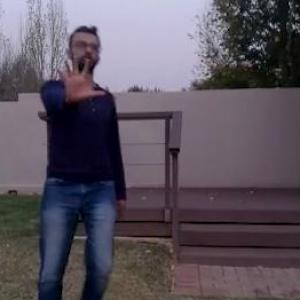follow_hand: (54, 53, 106, 103)
